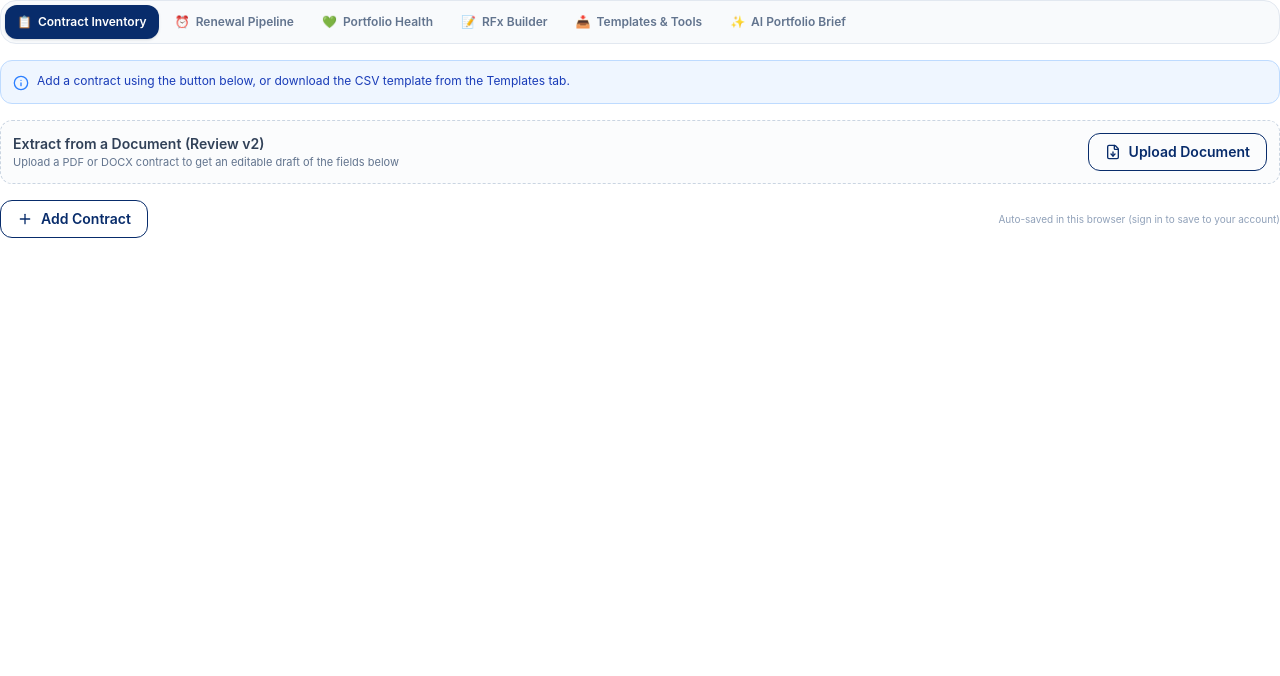
#385 UNSPSC Class/Commodity searchable lookup › reveals the search box once a sourced Segment (80) is chosen
This screenshot has width=1280, height=676.
Click the button "Add Contract": [74, 219] box top-left (0, 200), bottom-right (148, 238)
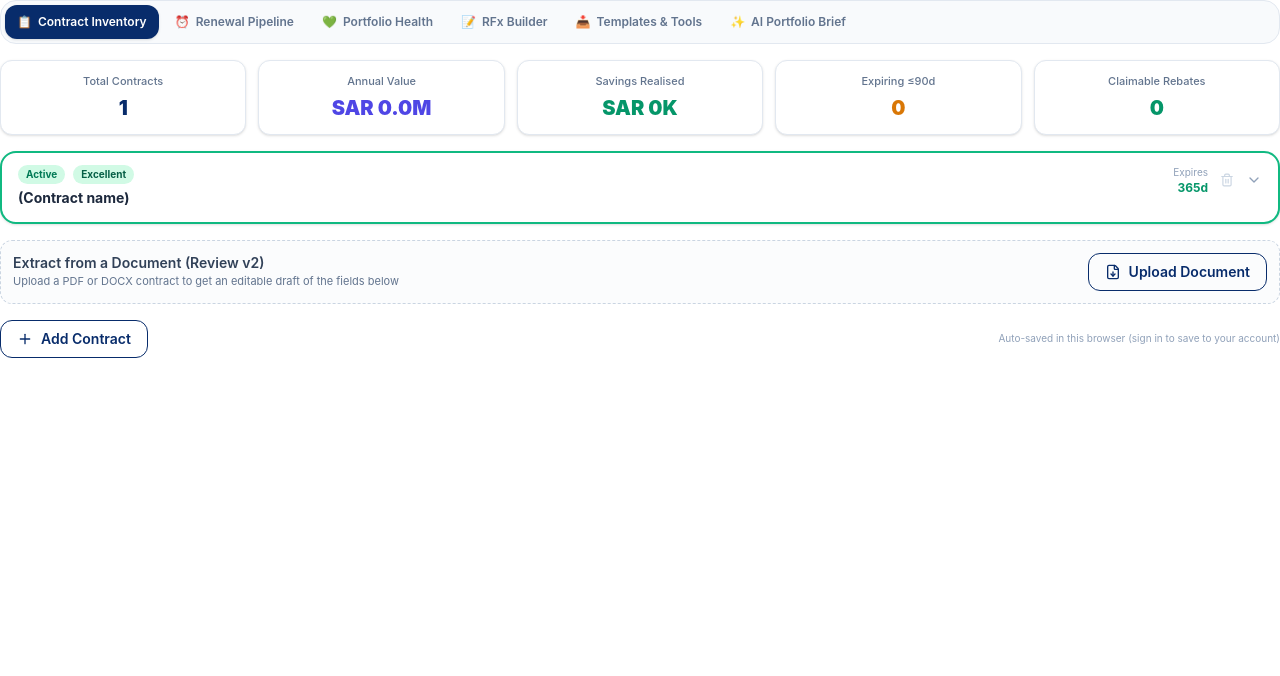
Click the text "(Contract name)": [74, 197] box top-left (18, 188), bottom-right (130, 206)
(page scrolled)
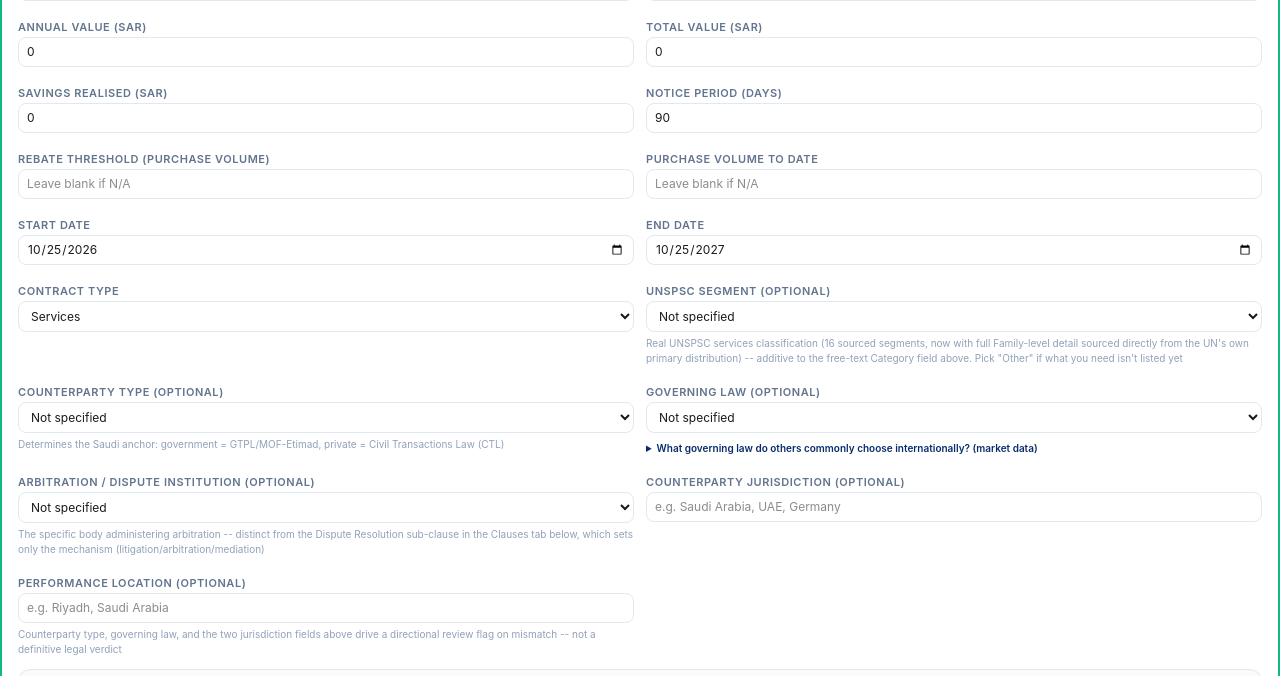
Select "80 -- Management, Business Professionals and Administrative Services" in the dropdown labelled "UNSPSC Segment (optional)": [954, 316] box top-left (646, 300), bottom-right (1262, 332)
(page scrolled)
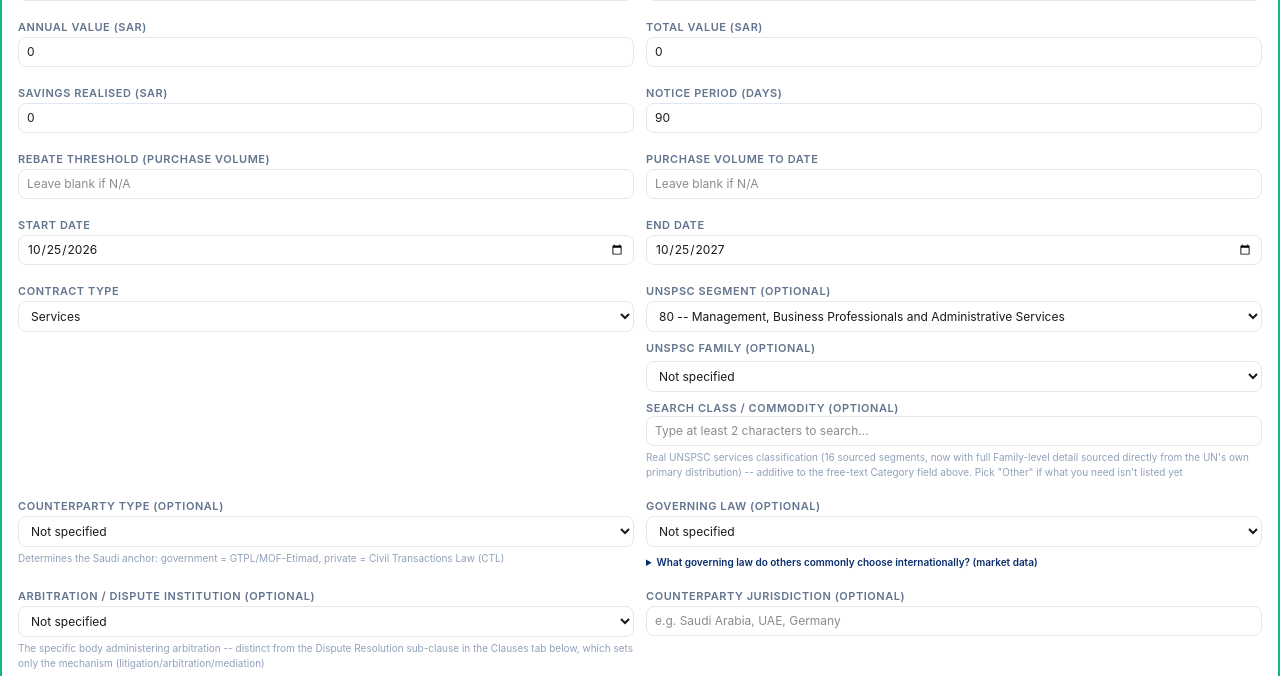
Expected: the field labelled "Search Class / Commodity (optional)" is shown, top-left (646, 416), bottom-right (1262, 446)
